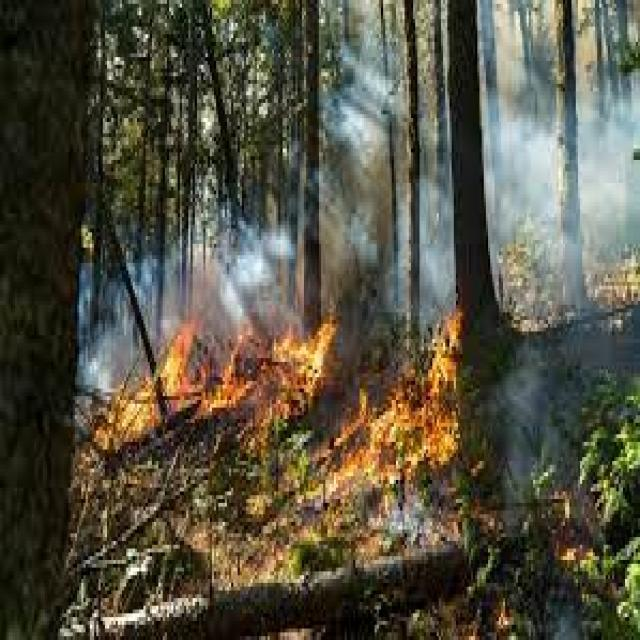Fire: (324, 308, 473, 538), (97, 303, 336, 439)
Smoke: (498, 350, 582, 477), (500, 102, 550, 294), (588, 102, 636, 248)
